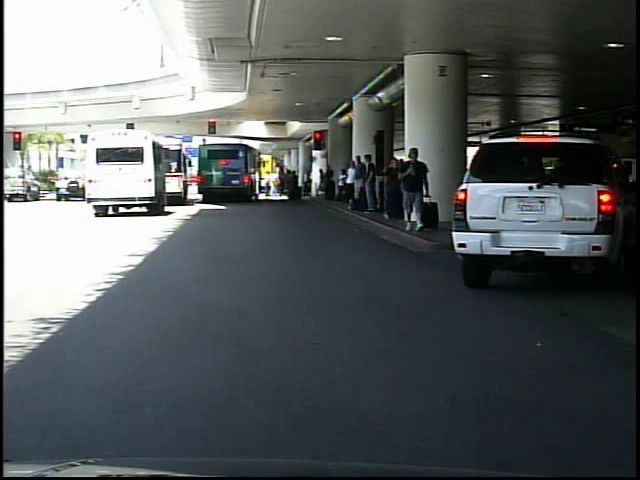person: (398, 146, 431, 236)
